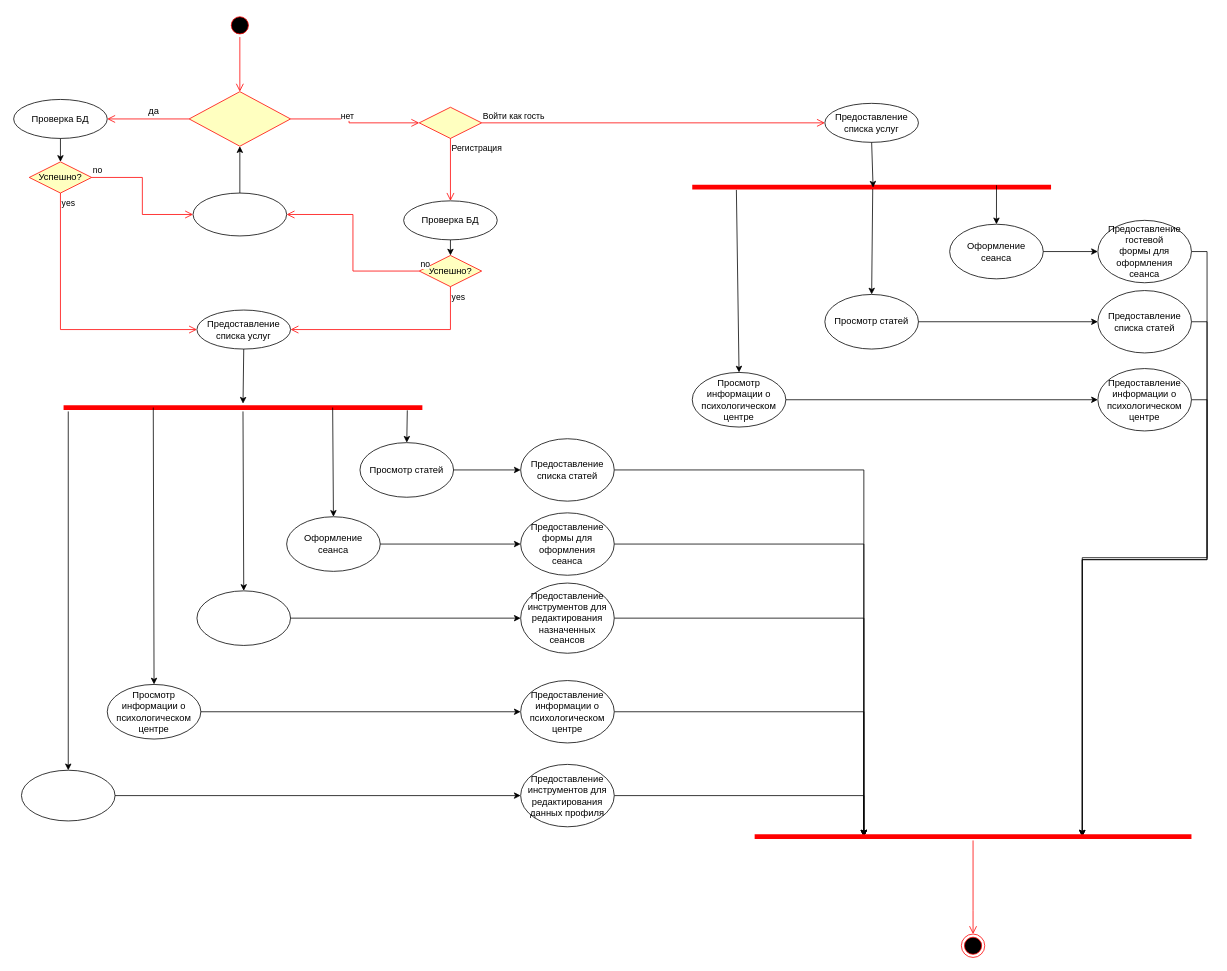
Some shapes in this 1227 by 971 pixel diagram are drawn without their labels. Here are the shapes that lost their labels. From the top down, the centre of each, then its label:
pixel 239 118: Пользователь Авторизировался?
pixel 450 122: Condition
pixel 239 214: Вывод сообщения об ошибке
pixel 243 617: Управление назначенными сеансами
pixel 68 795: Редактирование/просмотр профиля
